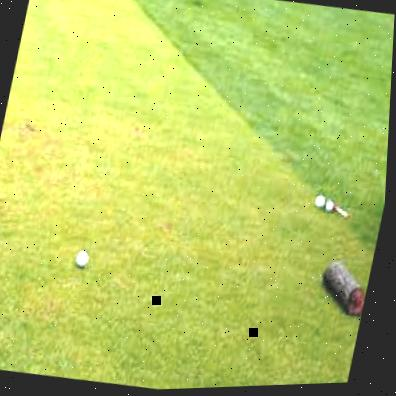ClubHead: (74, 246, 95, 273)
